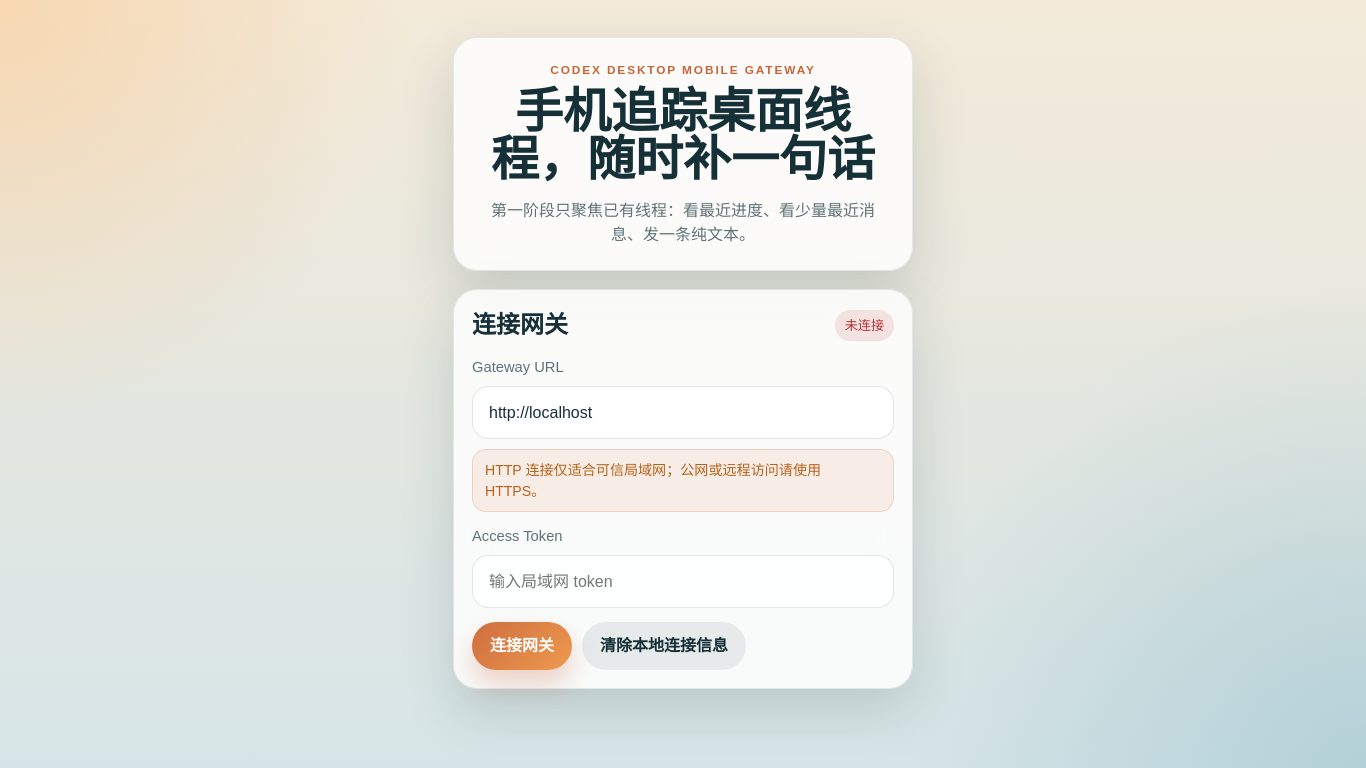
Test: MobileApp › explains that plain HTTP gateway URLs should stay on trusted networks
Replace the text in the field labelled "Gateway URL" with "http://127.0.0.1:43124" at (683, 412), box [472,386,894,439]
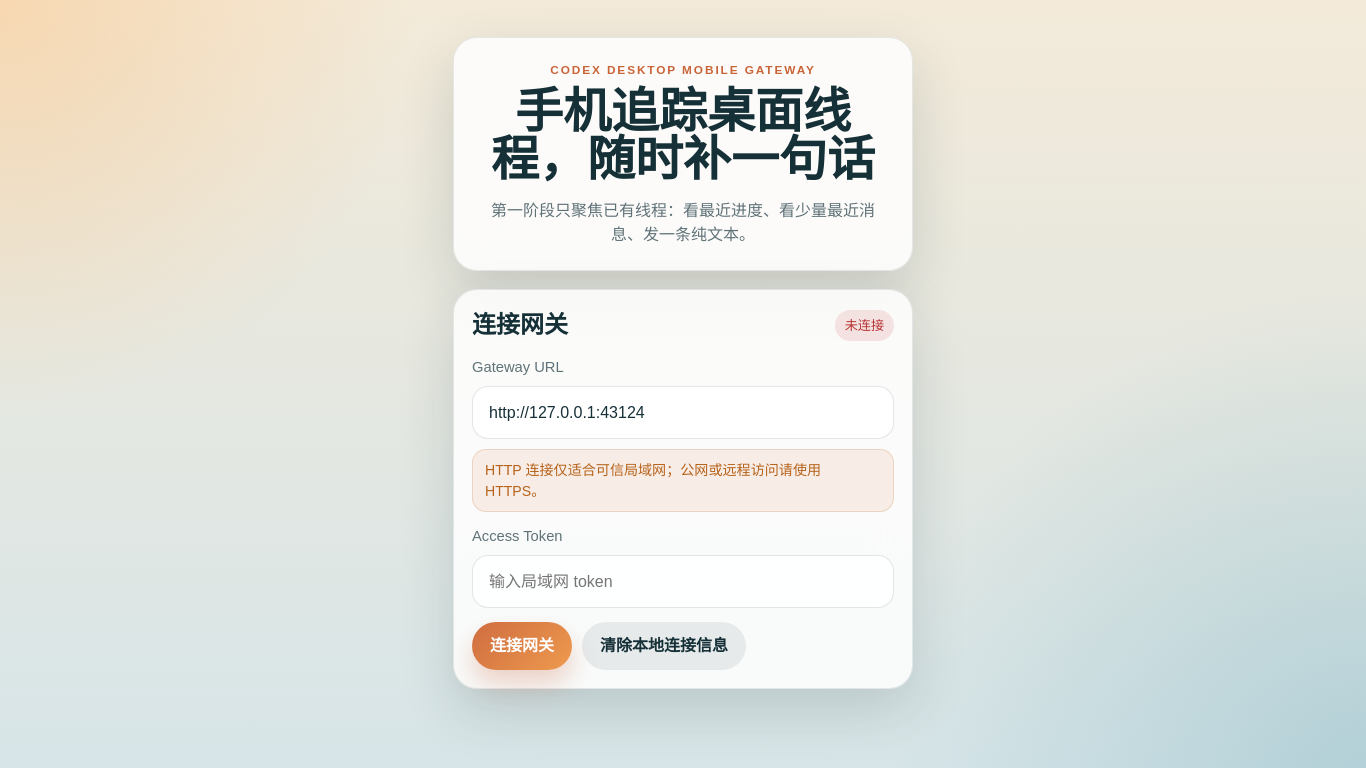
expect the text "HTTP 连接仅适合可信局域网；公网或远程访问请使用 HTTPS。" is shown: met, box [472,449,894,512]
Replace the text in the field labelled "Gateway URL" with "https://codex.example.test" at (683, 412), box [472,386,894,439]
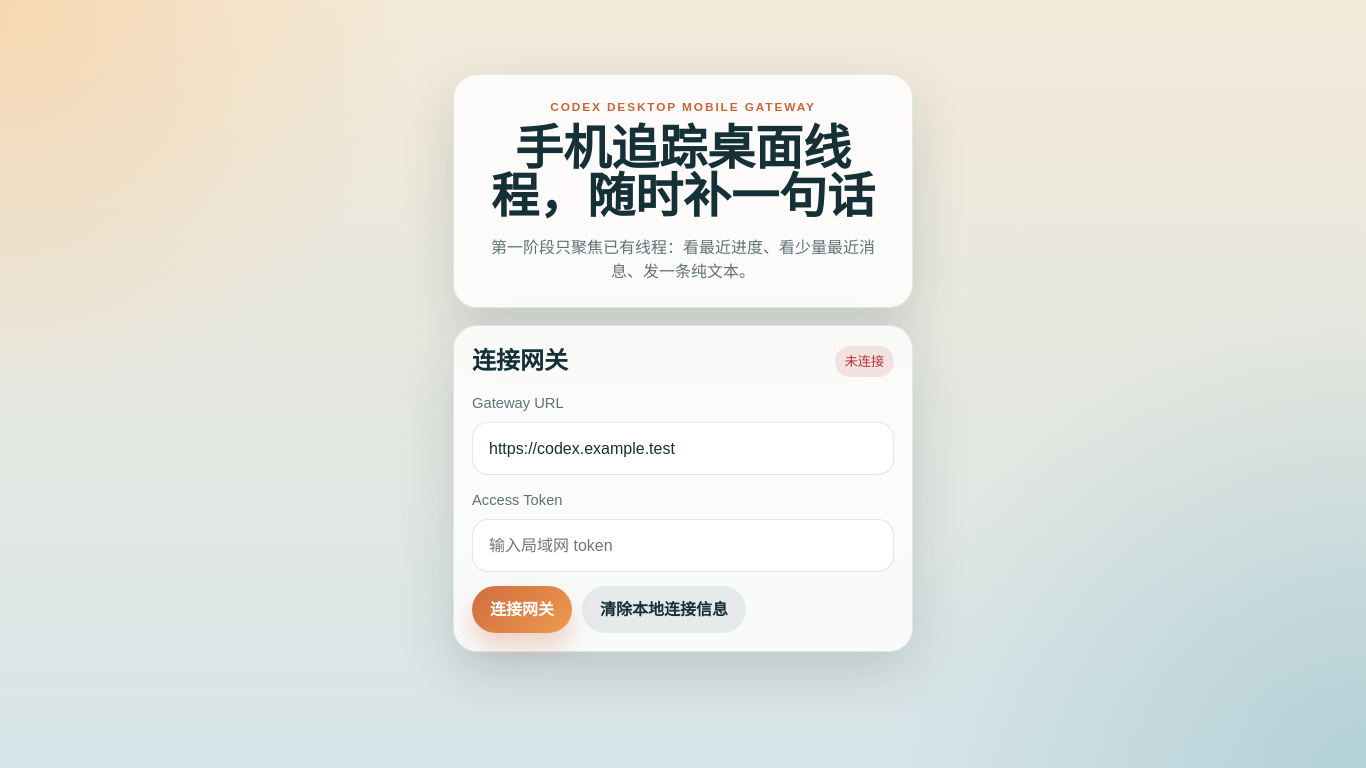
expect the text "HTTP 连接仅适合可信局域网" is gone: met
